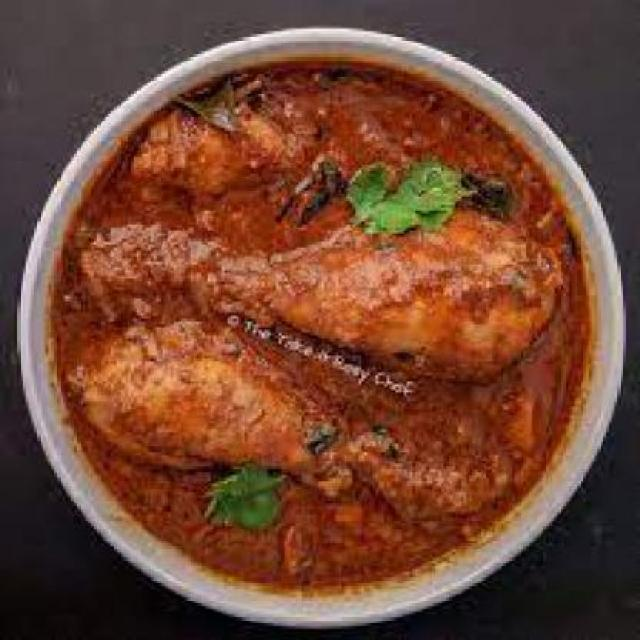CHICKEN CURRY: (49, 59, 594, 594)
